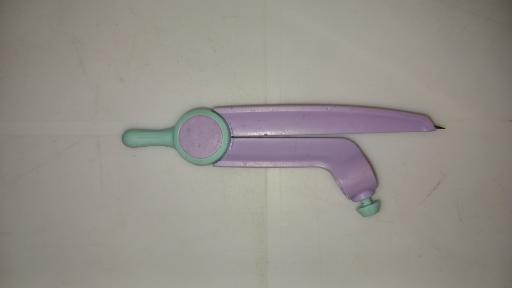Compass: (121, 104, 449, 217)
